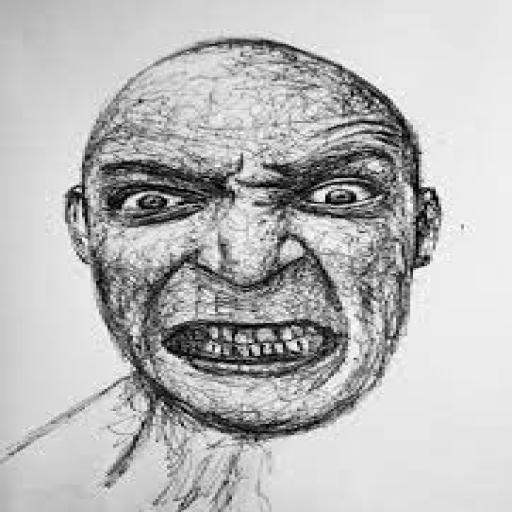person: (6, 36, 448, 510)
